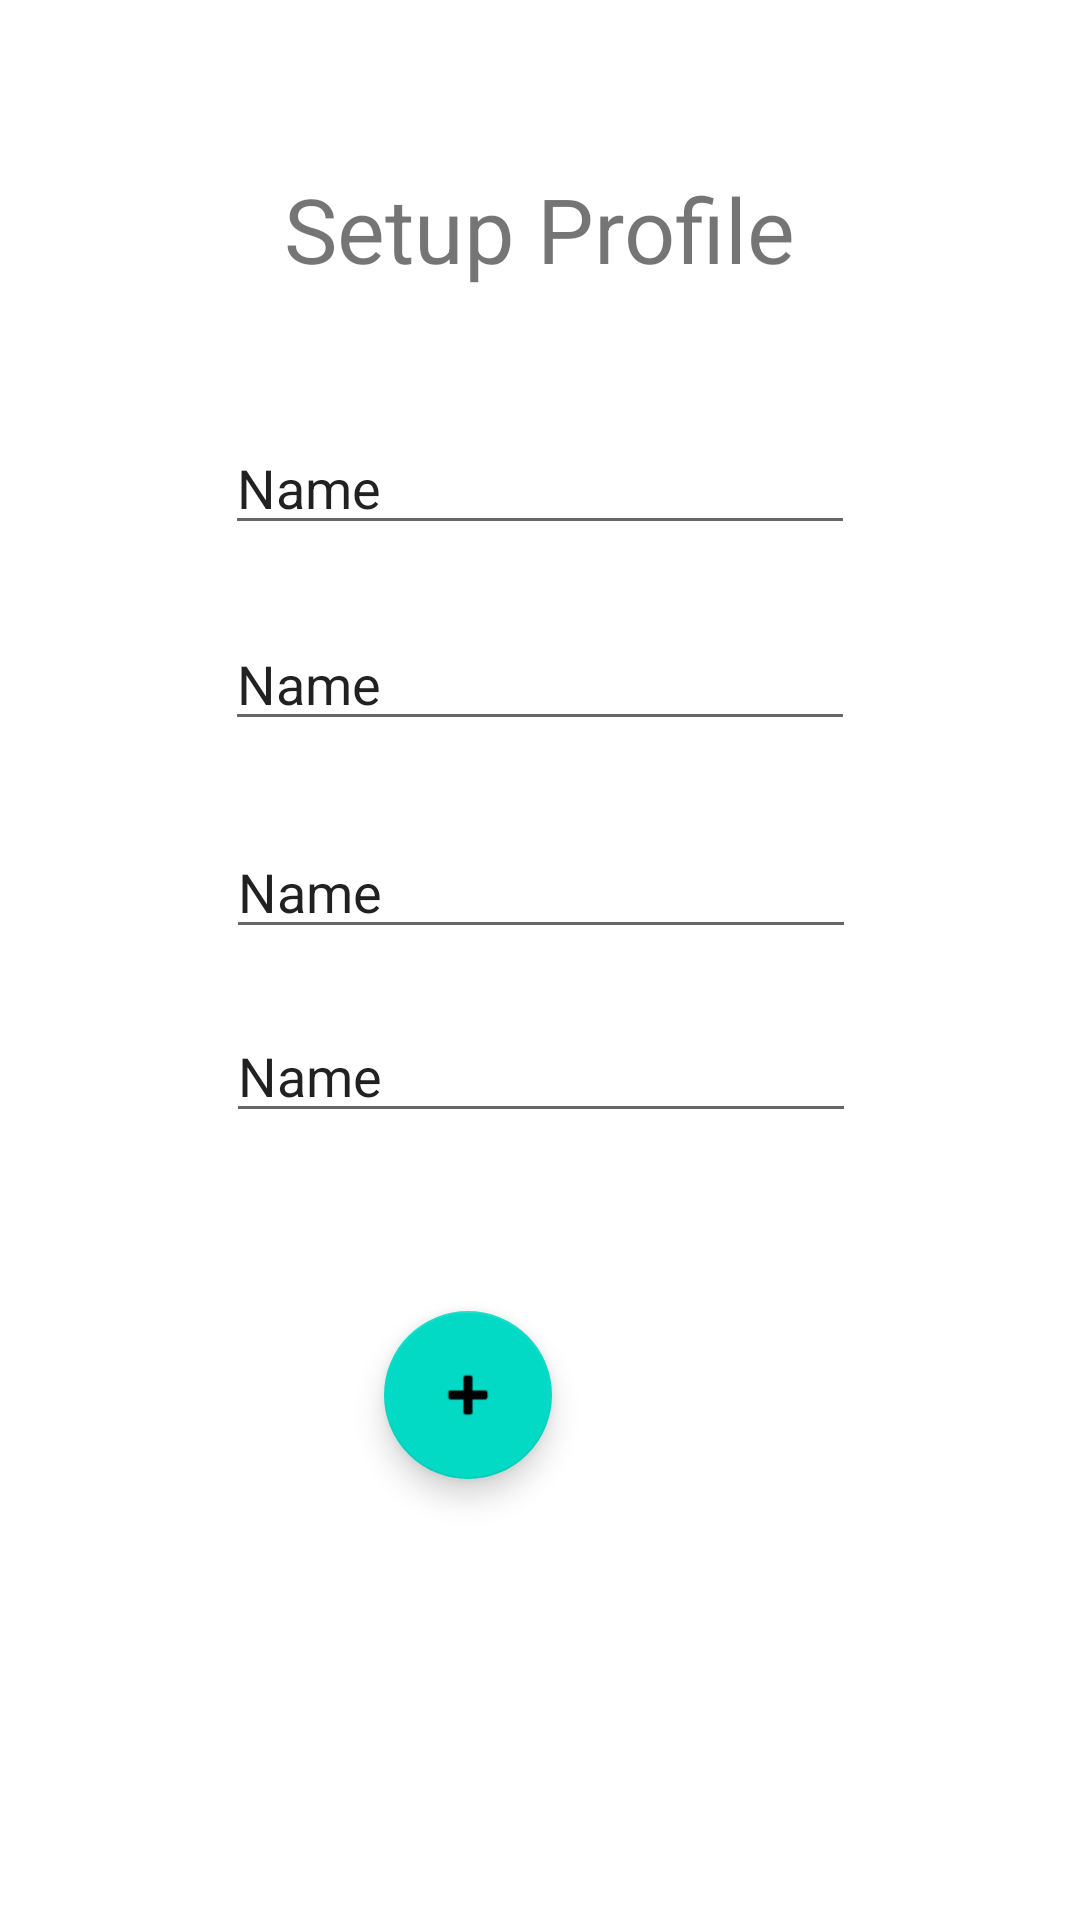

Icons on this 1080 x 1920 Android screen, each with its box as (x1, y1, x2, y2):
add: (384, 1311, 552, 1479)
